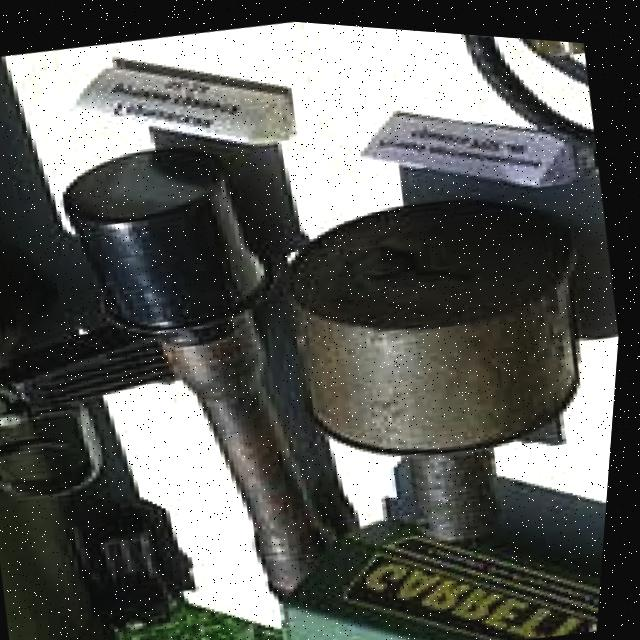grenade: (13, 109, 411, 640), (248, 160, 632, 593)
